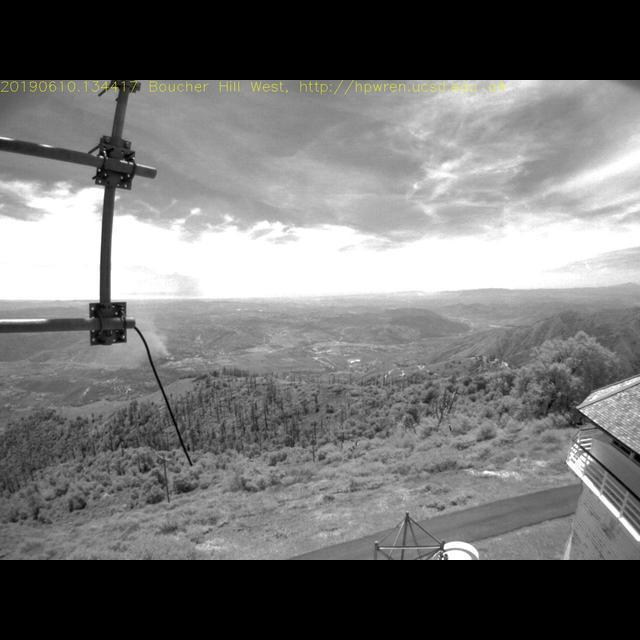Smoke: (123, 306, 175, 367)
